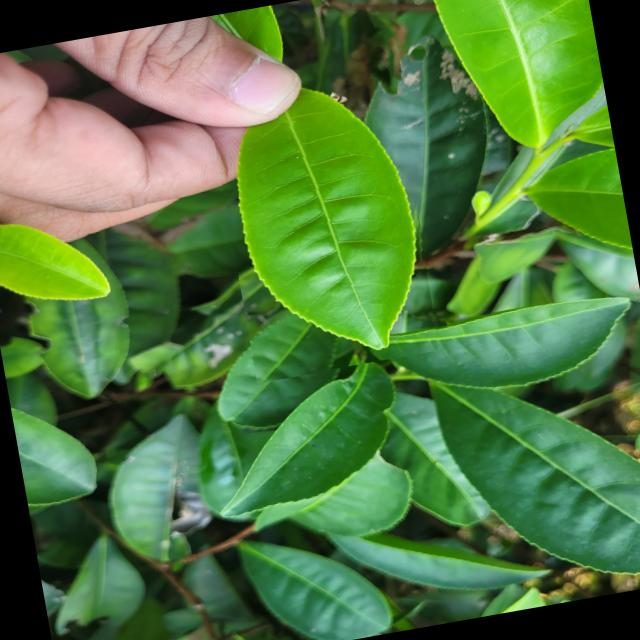Catagory A 1-2 days: (205, 54, 447, 382)
